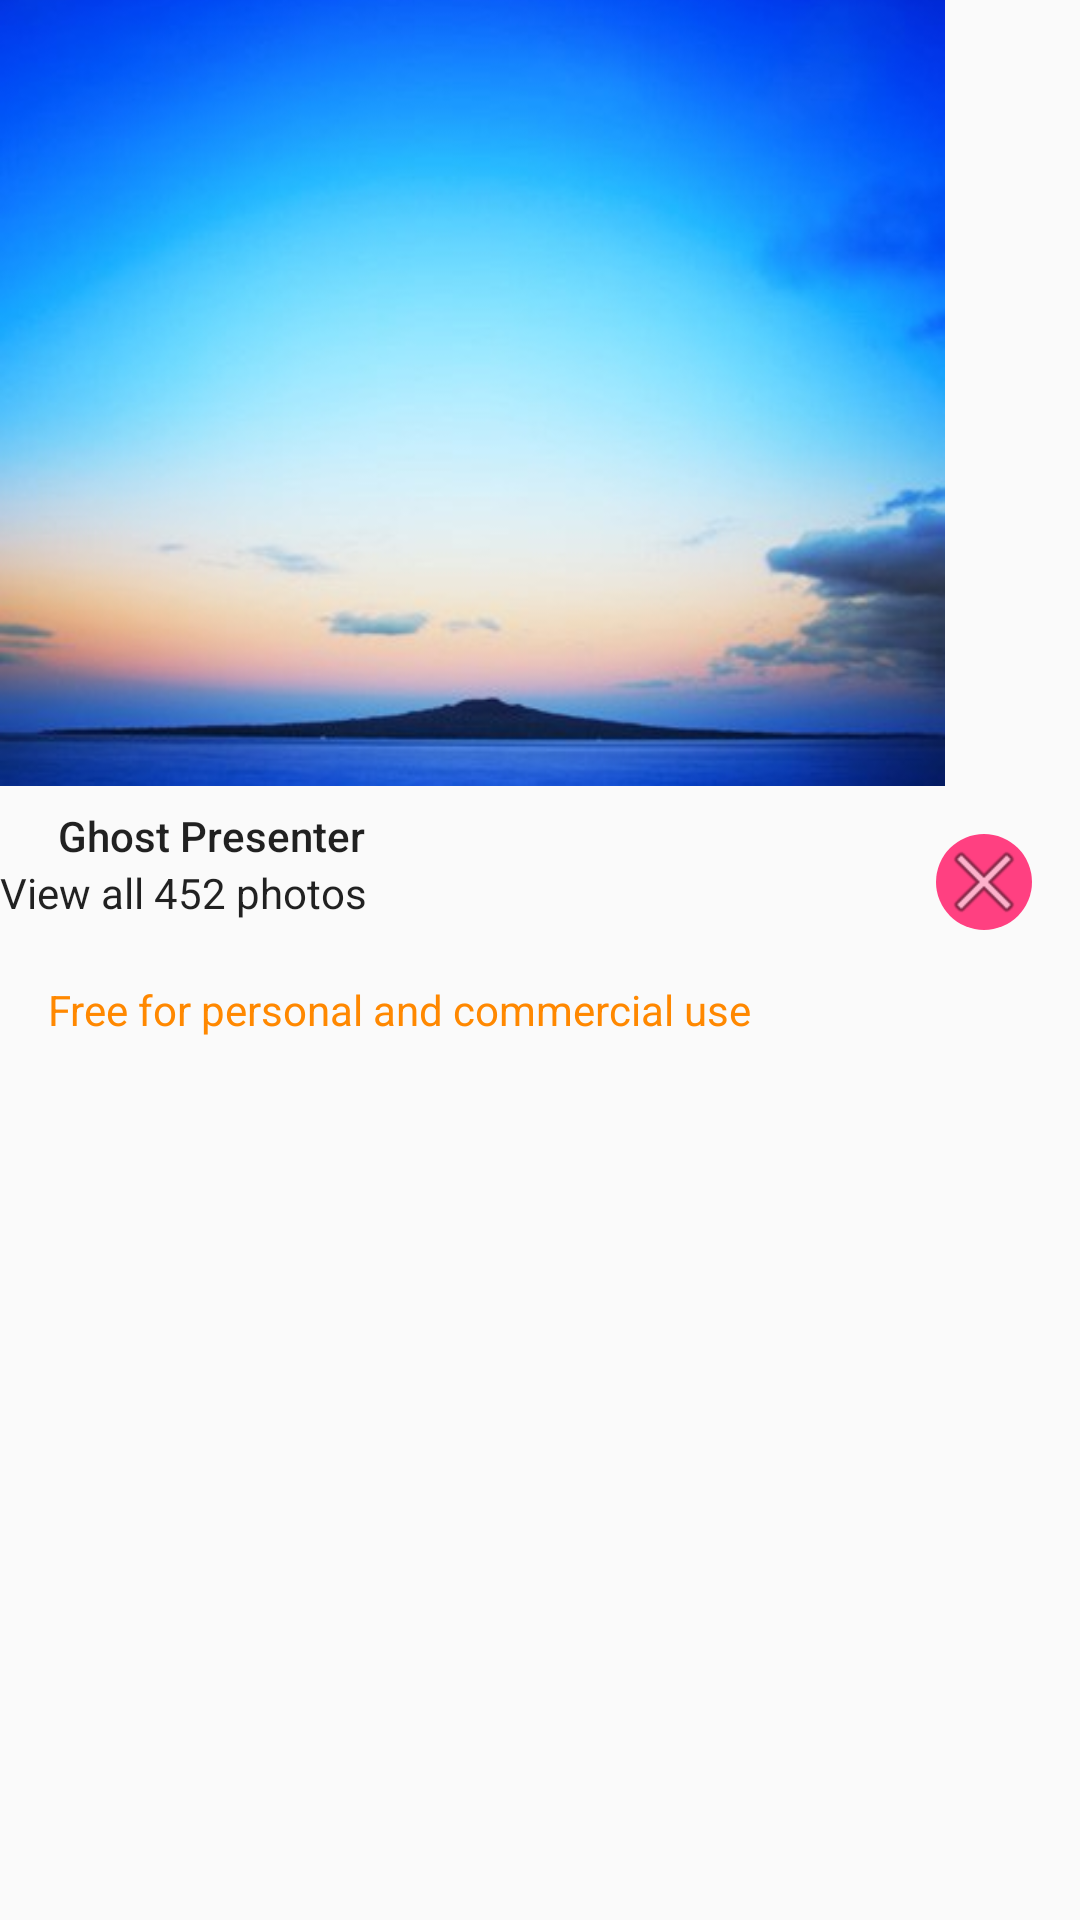

Locate icon controls on the screen. Image size 1080px×1920px, boxes as bbox=(x1, y1, x2, y2).
close clear cancel: bbox=(936, 834, 1032, 930)
